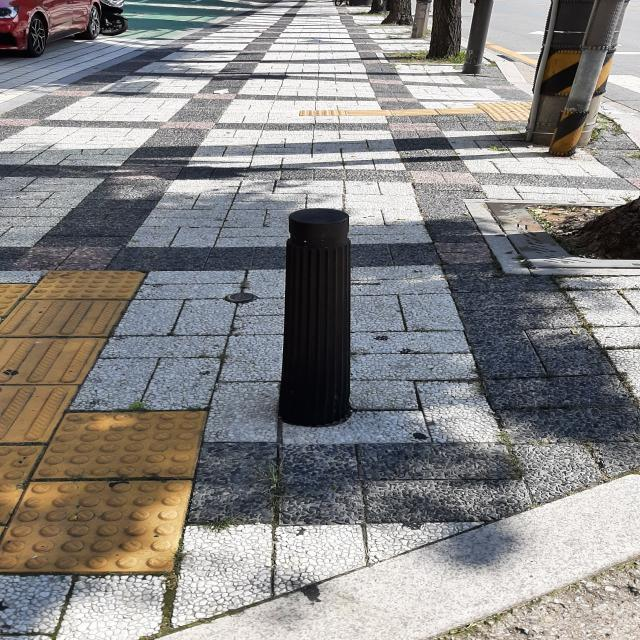pole: (278, 208, 350, 427), (524, 0, 620, 155)
